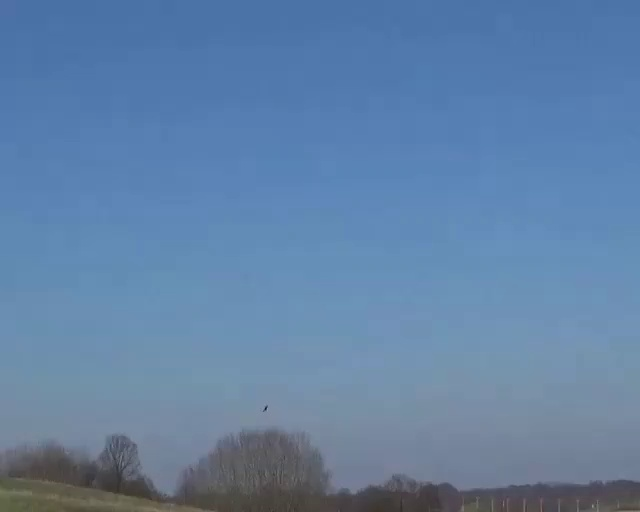BIRD: (261, 403, 270, 413)
